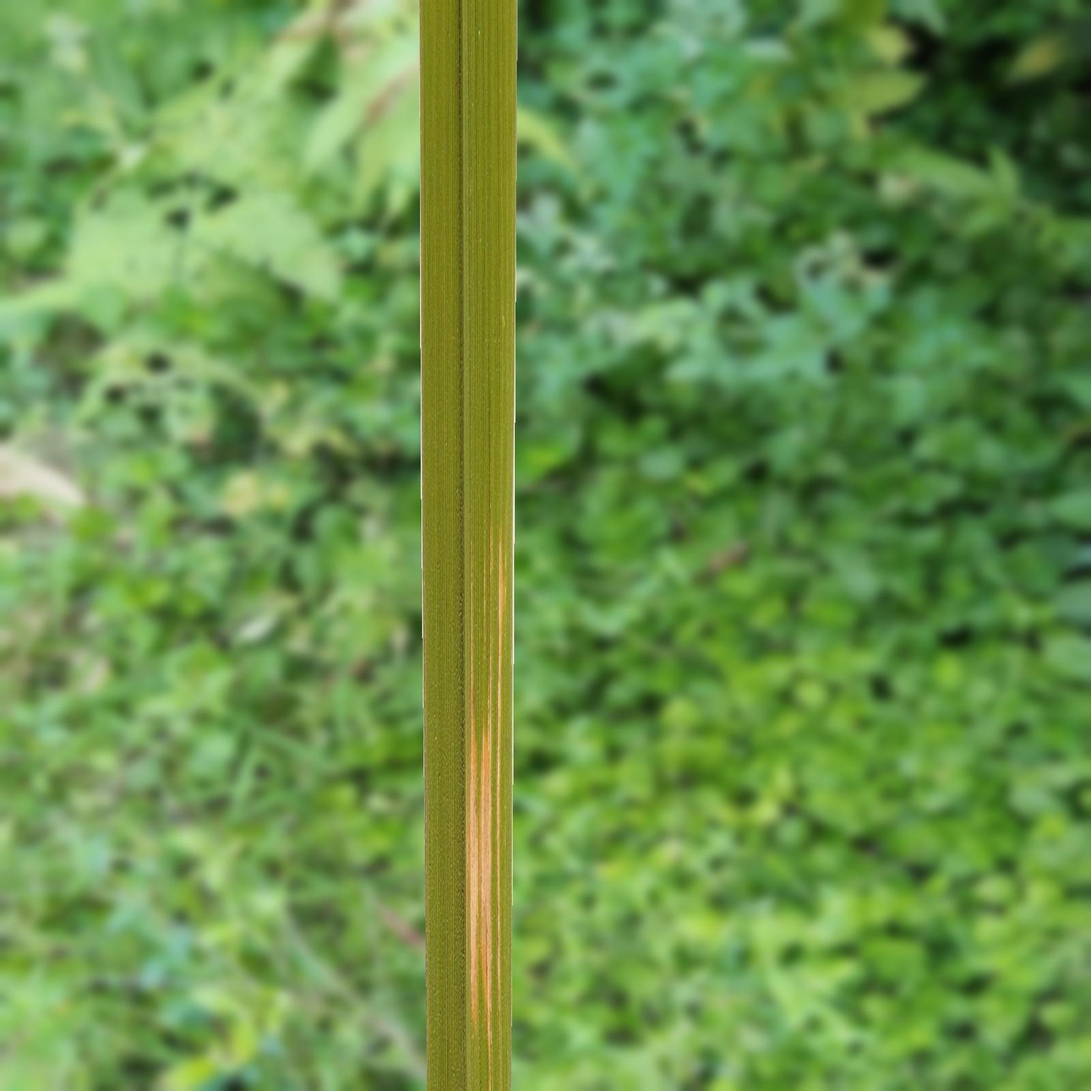BLS: (464, 513, 494, 1090), (497, 509, 507, 1014)
LEAF: (419, 0, 517, 1090)
